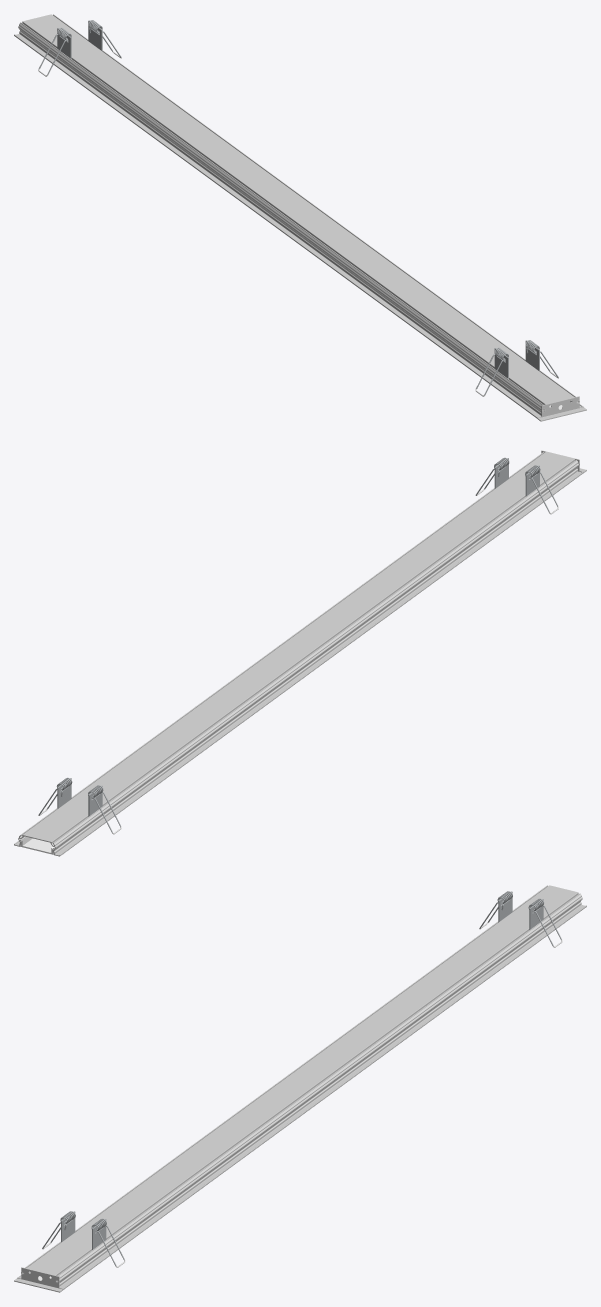
File: Fit40SlimEmbutido.glb
The picture shows the model from 3 angles, top to bottom: view 1: azimuth 30°, elevation 25°; view 2: azimuth 150°, elevation 25°; view 3: azimuth 330°, elevation 25°; orthographic projection.
Visible parts, largest first — view 1: 3DGeom-1, 3DGeom-3; view 2: 3DGeom-1; view 3: 3DGeom-1, 3DGeom-3.
Boxes of the visible parts, left/top/right/bottom form: 3DGeom-1: left=14, top=14, right=582, bottom=418; 3DGeom-3: left=537, top=396, right=586, bottom=421; 3DGeom-1: left=14, top=452, right=583, bottom=856; 3DGeom-1: left=18, top=885, right=586, bottom=1289; 3DGeom-3: left=14, top=1267, right=63, bottom=1292.
Size of the model in its own units: 0.0843 by 0.0405 by 1.01.
Materials: 3 (1 with a texture image).
